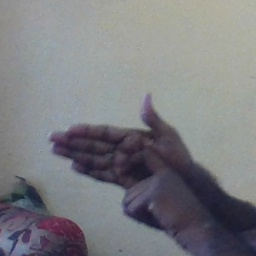R: (48, 92, 204, 224)
